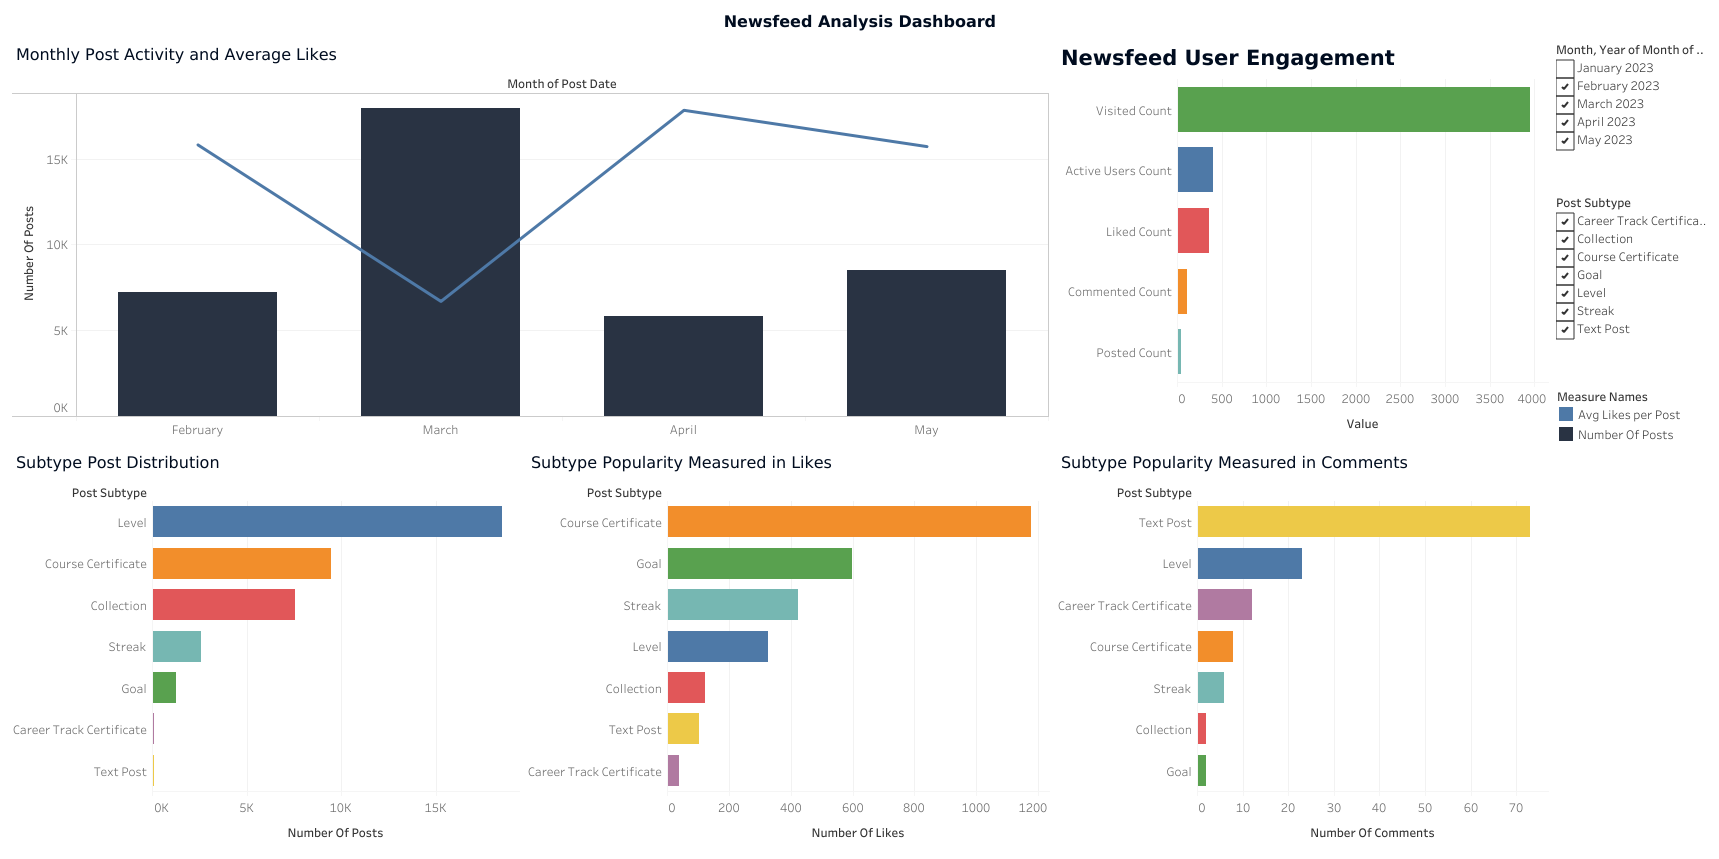

The page's visual inventory and layout, read from the dashboard file:
{"tool":"tableau","page":{"name":"Dashboard 1","canvas":[1000,1000],"units":"permille","ordinal":0},"visuals":[{"type":"title","box":[4.7,8.8,990.6,28.8]},{"type":"worksheet","title":"Sheet 1","mark":"Bar","rows":["number_of_posts","Calculation_1161928725044277249"],"cols":["post_date"],"box":[4.7,37.6,607,476.7]},{"type":"worksheet","title":"Engagement","mark":"Automatic","box":[611.7,37.6,290,476.7]},{"type":"filter","title":"Sheet 1","param":"[federated.1u2n35i1xwz2qw16idjyf1kn14rl].[my:post_date:ok]","box":[901.7,37.6,93.6,161.5]},{"type":"filter","title":"Sheet 1","param":"[federated.1u2n35i1xwz2qw16idjyf1kn14rl].[none:post_subtype:nk]","box":[901.7,199.1,93.6,203.5]},{"type":"legend","title":"Sheet 1","param":"[federated.1u2n35i1xwz2qw16idjyf1kn14rl].[:Measure Names]","box":[901.7,402.7,93.6,73]},{"type":"worksheet","title":"Posts","mark":"Automatic","rows":["post_subtype"],"cols":["number_of_posts"],"box":[4.7,514.3,299.2,476.8]},{"type":"worksheet","title":"Likes","mark":"Automatic","rows":["post_subtype"],"cols":["number_of_likes"],"box":[303.9,514.3,307.8,476.8]},{"type":"worksheet","title":"Comments","mark":"Automatic","rows":["post_subtype"],"cols":["number_of_comments"],"box":[611.7,514.3,290,476.8]}]}

Visuals, with their boxes on the dashboard's canvas, which has no fixed pixel size, in thousandths of its width and height (x1, y1, x2, y2). These are canvas units, not pixel positions in the 1719x859 screenshot, which may show the page scaled, cropped or inside an application window:
title: crop(5, 9, 995, 38)
"Sheet 1" worksheet (Bar marks): crop(5, 38, 612, 514)
"Engagement" worksheet: crop(612, 38, 902, 514)
"Sheet 1" filter: crop(902, 38, 995, 199)
"Sheet 1" filter: crop(902, 199, 995, 403)
"Sheet 1" legend: crop(902, 403, 995, 476)
"Posts" worksheet: crop(5, 514, 304, 991)
"Likes" worksheet: crop(304, 514, 612, 991)
"Comments" worksheet: crop(612, 514, 902, 991)
